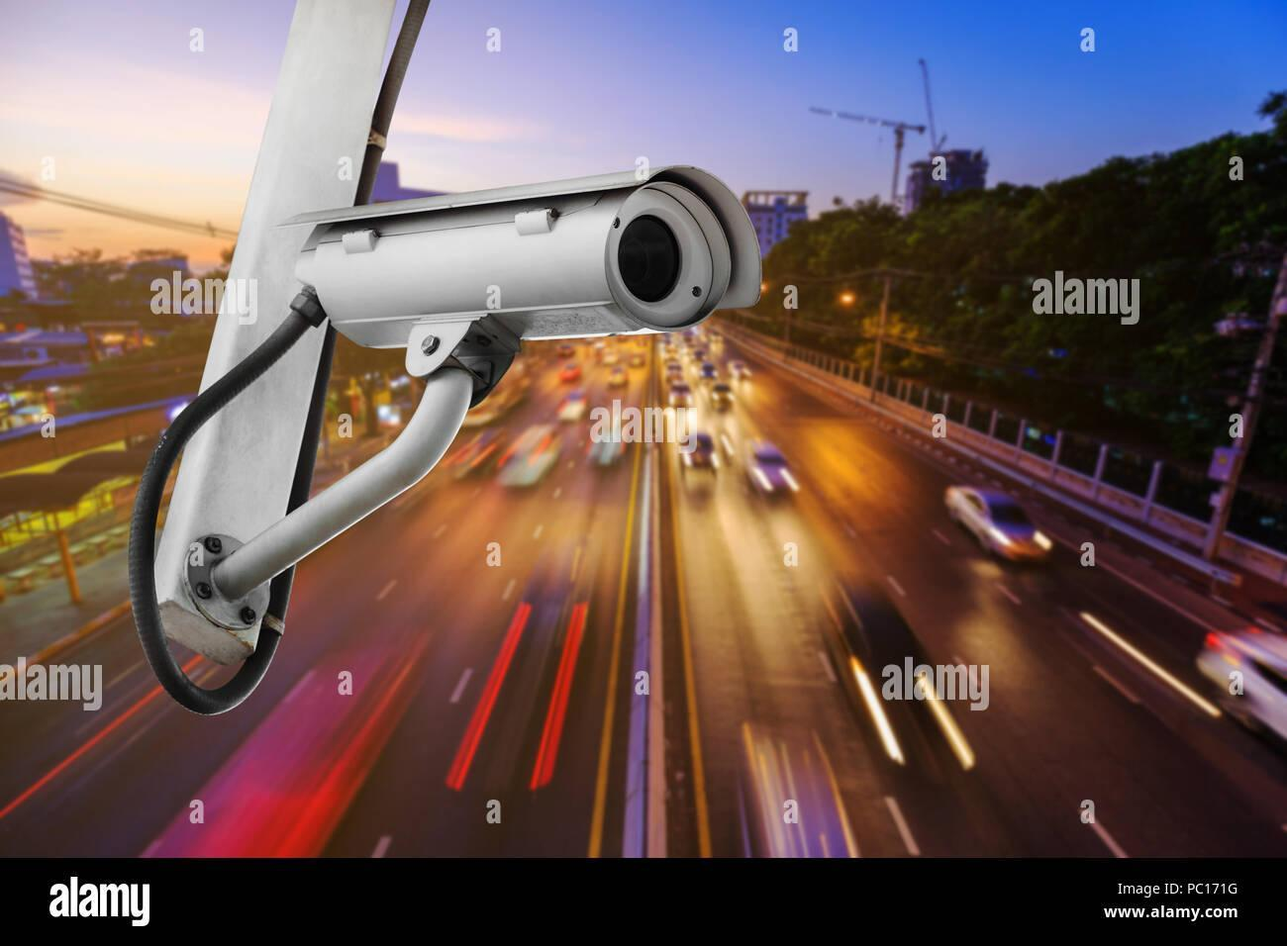Monitor: (272, 158, 763, 403)
